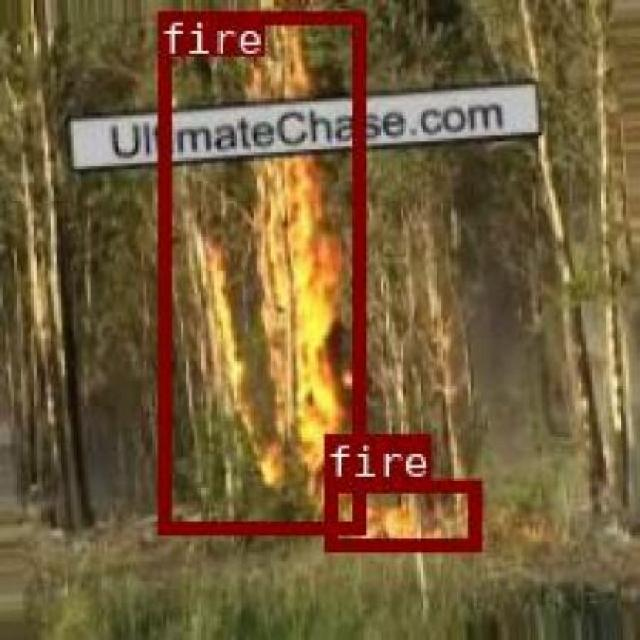Fire: (158, 9, 364, 532), (322, 478, 478, 548)
